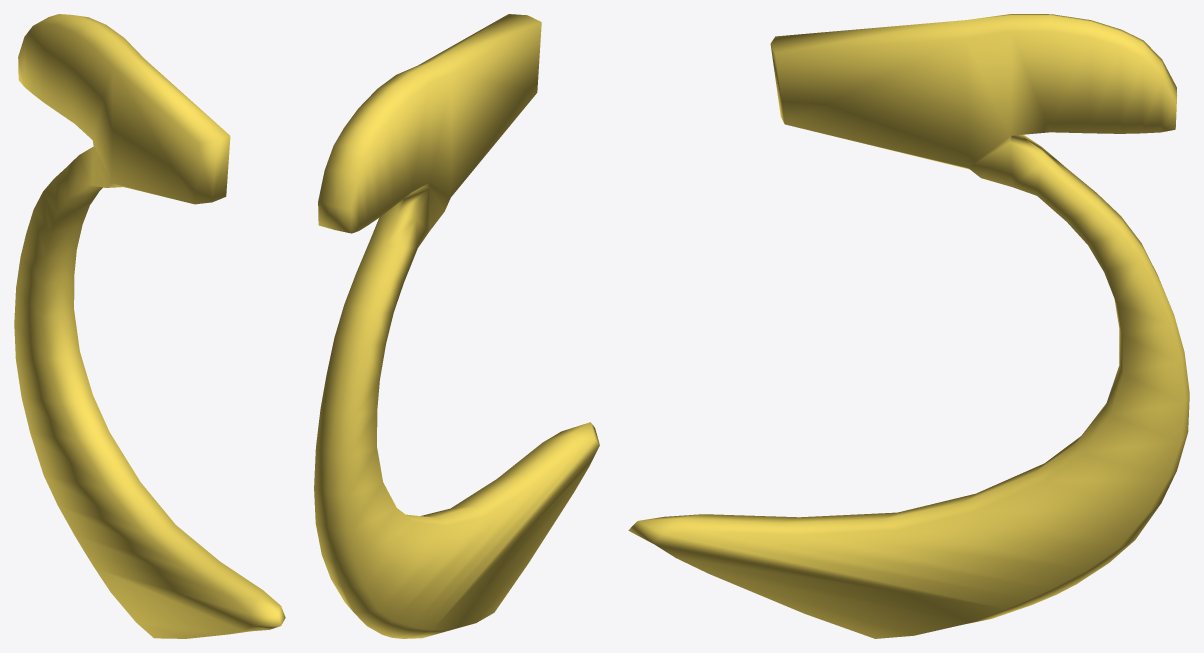
The picture shows the model from 3 angles, left to right: view 1: azimuth 30°, elevation 25°; view 2: azimuth 150°, elevation 25°; view 3: azimuth 270°, elevation 25°; orthographic projection. The views are drawn at different scales.
Visible parts, largest first — view 1: ha; view 2: ha; view 3: ha.
Part boxes in pixels (<box>): ha: <box>14,14,285,638</box>; ha: <box>314,14,599,638</box>; ha: <box>628,14,1189,638</box>.
Size of the model in its own units: 12.87 by 173 by 209.
1 material, 1 textured.
